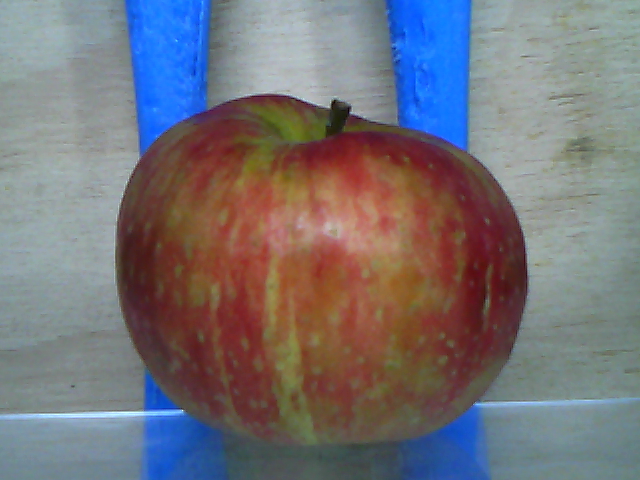stem: (323, 100, 354, 147)
